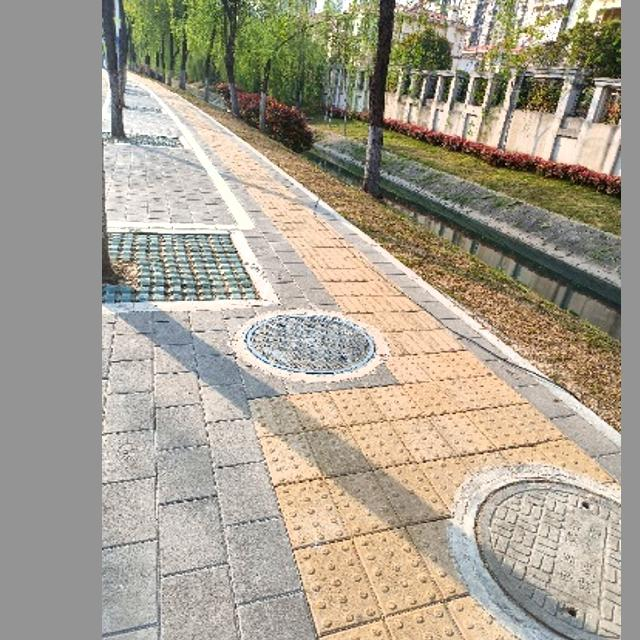good: (461, 470, 621, 640), (234, 308, 387, 378)
